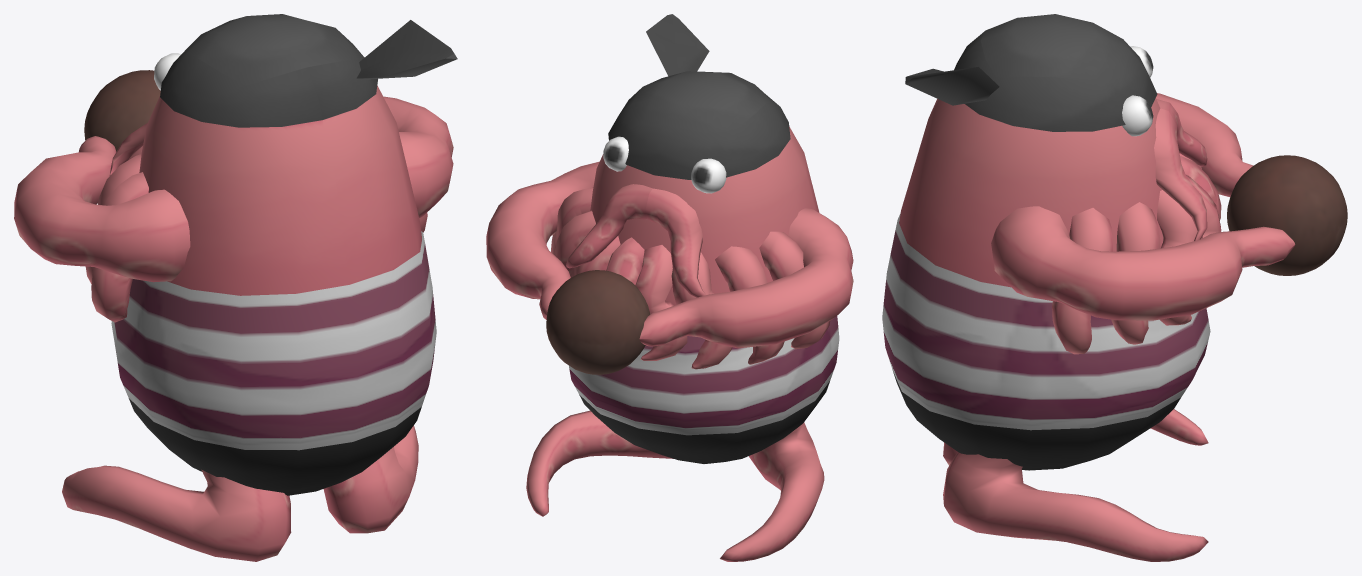
Rendered from tako_idle_b_01.fbx.
The picture shows the model from 3 angles, left to right: view 1: azimuth 30°, elevation 25°; view 2: azimuth 150°, elevation 25°; view 3: azimuth 270°, elevation 25°; orthographic projection. The views are drawn at different scales.
Parts seen in each view (by area): view 1: I_b_01; view 2: I_b_01; view 3: I_b_01.
Part boxes in pixels (box(x1,y1,x2,y2)): I_b_01: box(14, 14, 457, 561); I_b_01: box(486, 14, 853, 561); I_b_01: box(882, 14, 1347, 561).
Size of the model in its own units: 1.38 by 1.6 by 1.4.
1 material, 1 textured.
